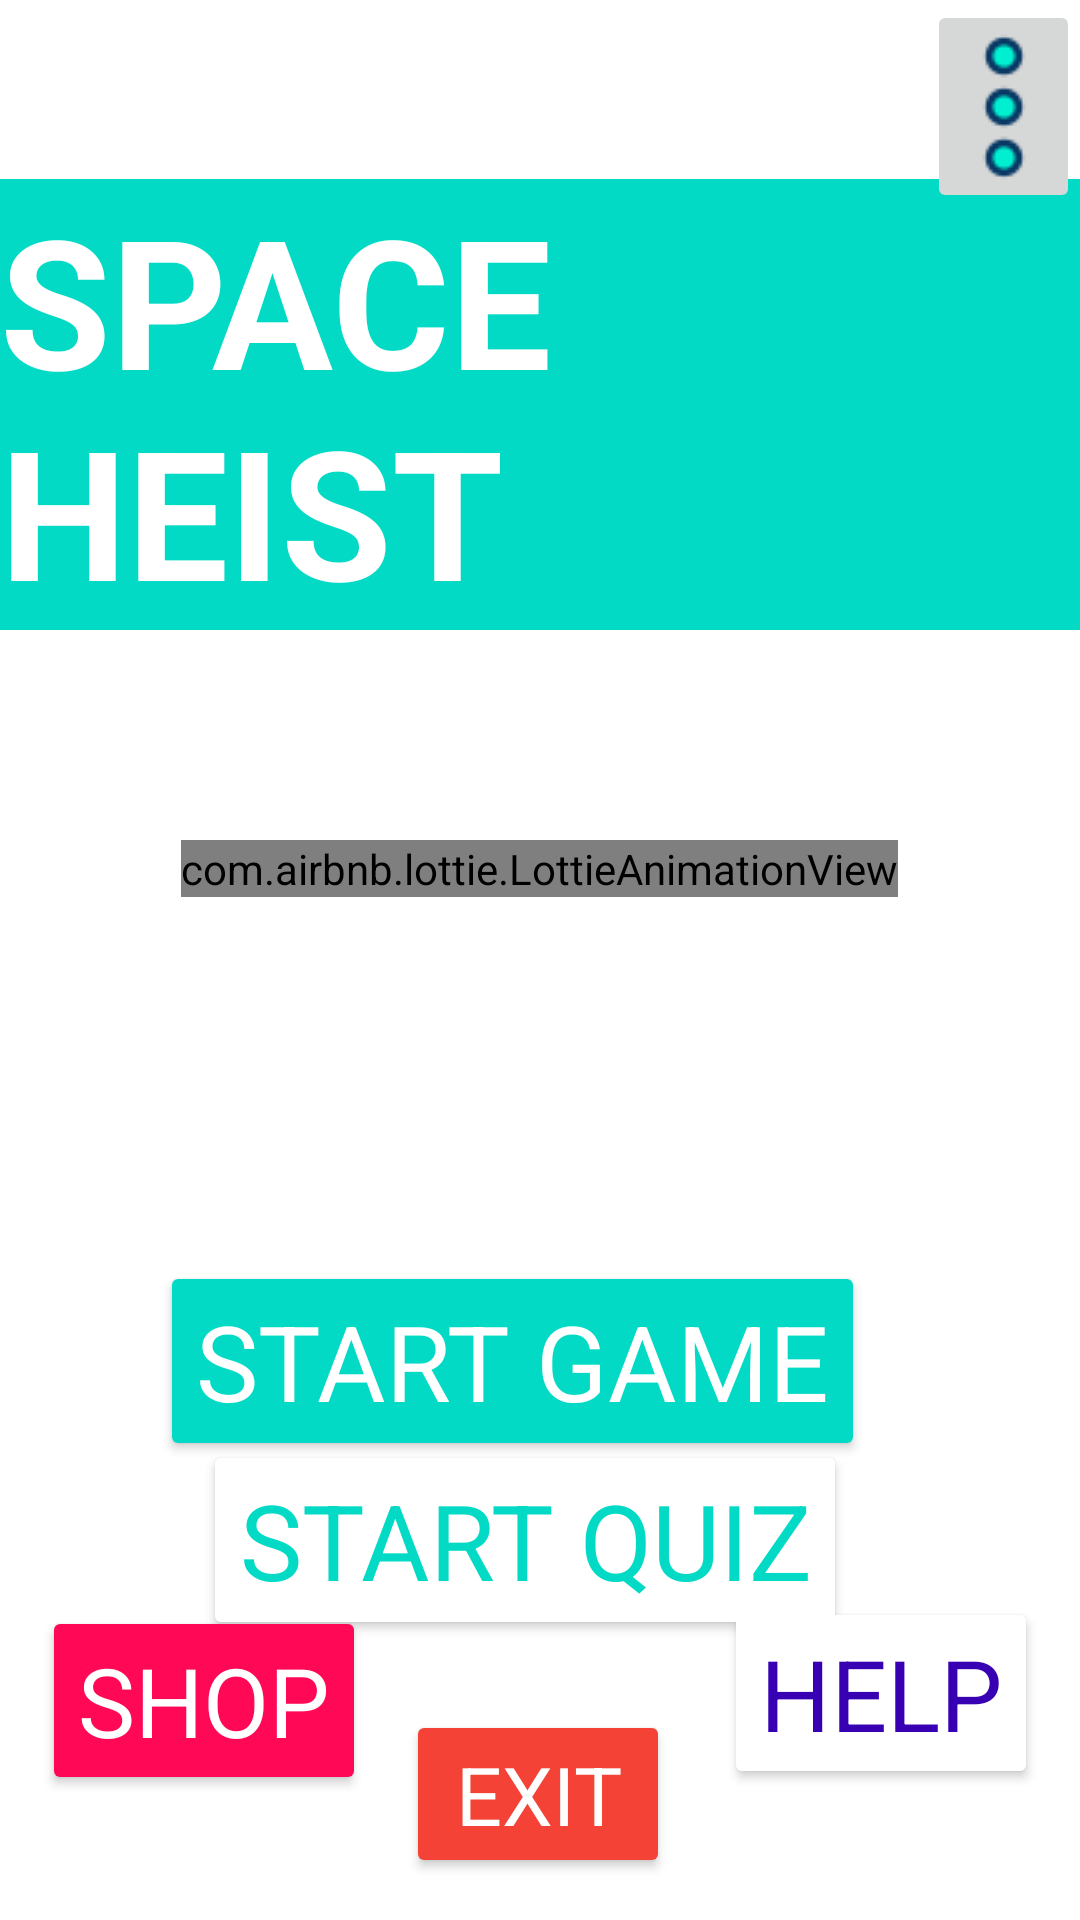

Point at icon controls on the screen. Image size 1080px×1920px, points as point (x, y).
more ver: point (1003, 106)
